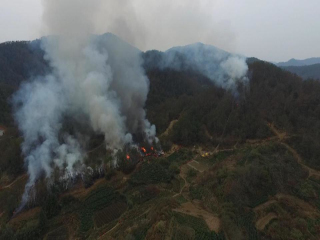smoke: (14, 2, 250, 184)
